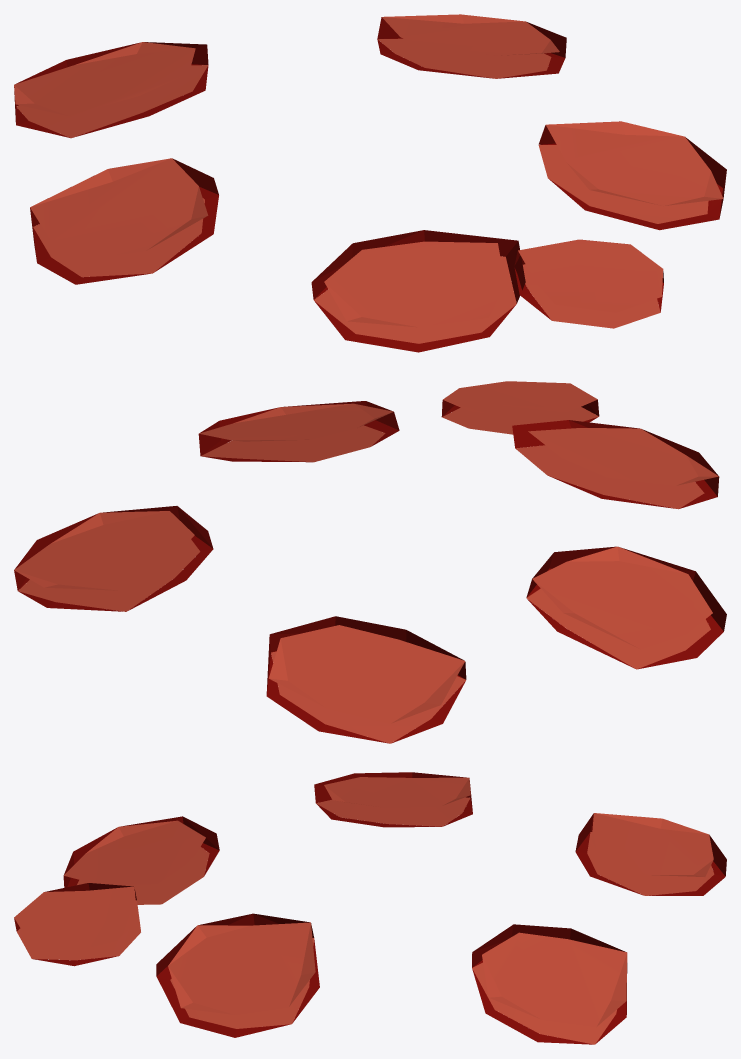
Rendered from tomato-transformed.glb.
The picture shows the model from 3 angles, top to bottom: view 1: azimuth 30°, elevation 25°; view 2: azimuth 150°, elevation 25°; view 3: azimuth 270°, elevation 25°; orthographic projection. The views are drawn at different scales.
Parts seen in each view (by area): view 1: tomato; view 2: tomato; view 3: tomato.
Part boxes in pixels (x1,y1,x2,y2): tomato: (14,14,726,352); tomato: (14,381,726,743); tomato: (14,772,726,1044).
Size of the model in its own units: 1.29 by 0.1461 by 1.49.
